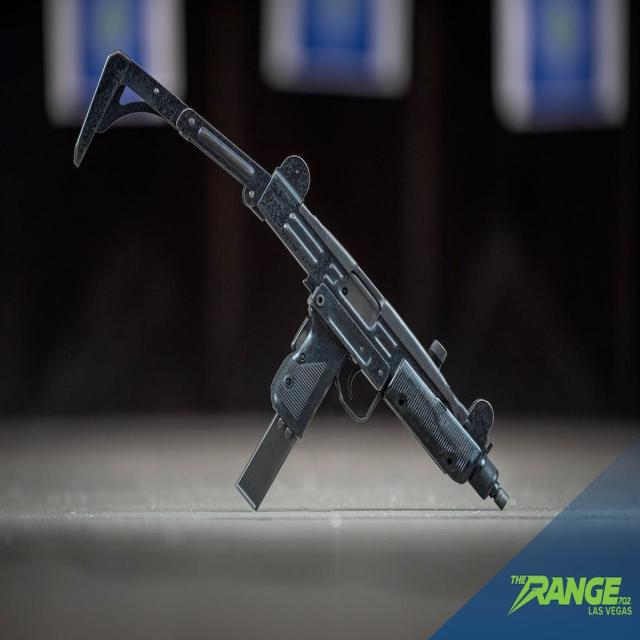SMG: (76, 54, 510, 511)
